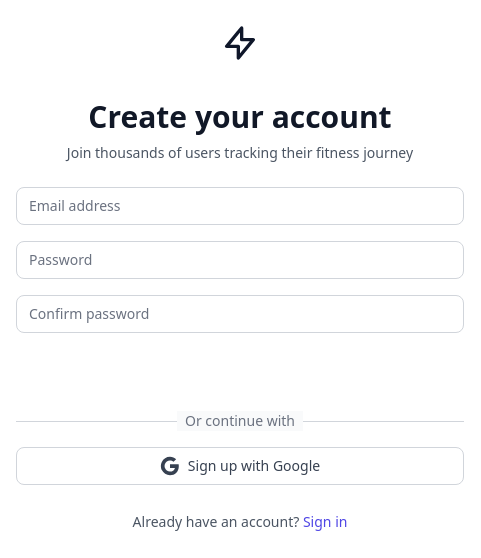
SignupForm › should show password strength indicator
The width and height of the screenshot is (481, 558).
Note: Weak password
In the password field with placeholder "Password": (240, 260) [16,241,464,279], type "weak"
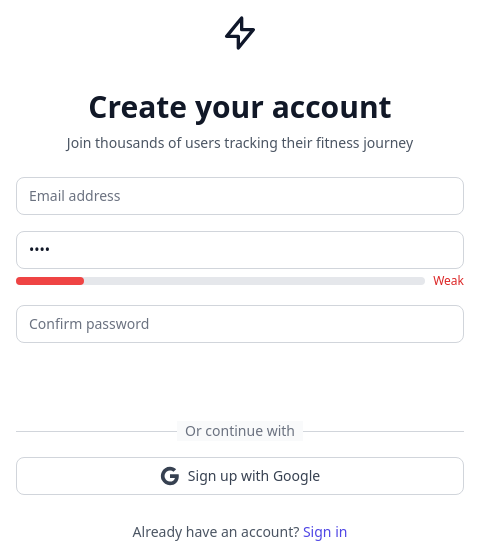
expect the text "Weak" is shown: met, box [433,273,464,289]
Note: Medium password
In the password field with placeholder "Password": (240, 250) [16,231,464,269], type "Medium1"
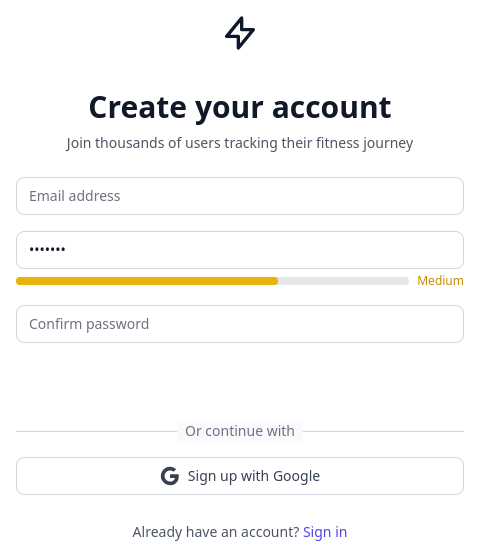
expect the text "Medium" is shown: met, box [417,273,464,289]
Note: Strong password
In the password field with placeholder "Password": (240, 250) [16,231,464,269], type "Strong1!"
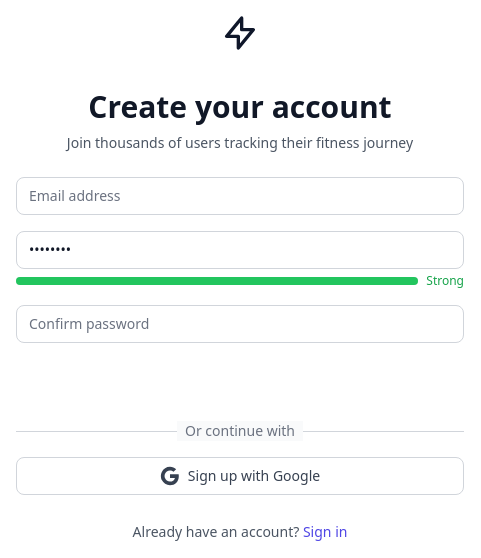
expect the text "Strong" is shown: met, box [426,273,464,289]
